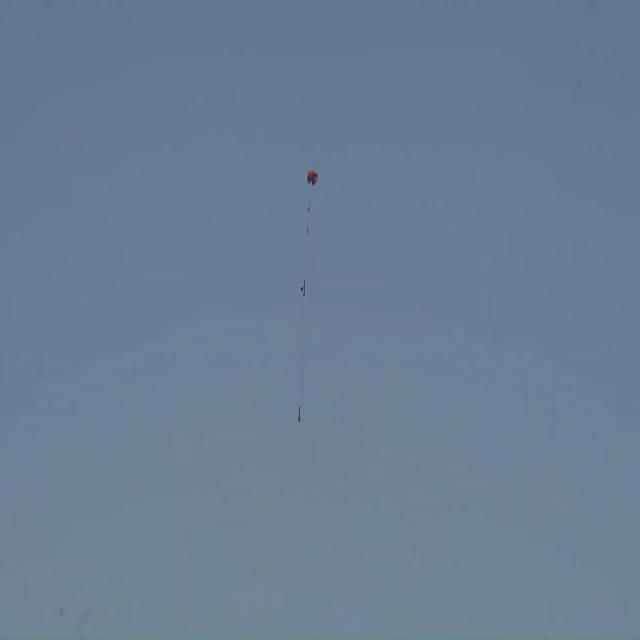Rocket: (297, 405, 301, 423)
